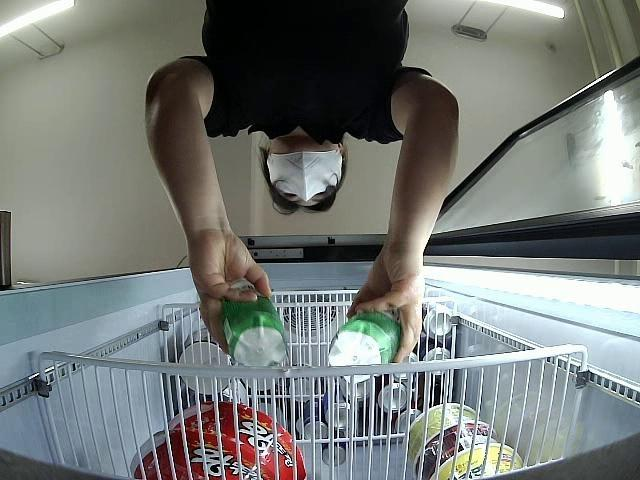18_trevi: (219, 283, 290, 366), (330, 313, 400, 387)
